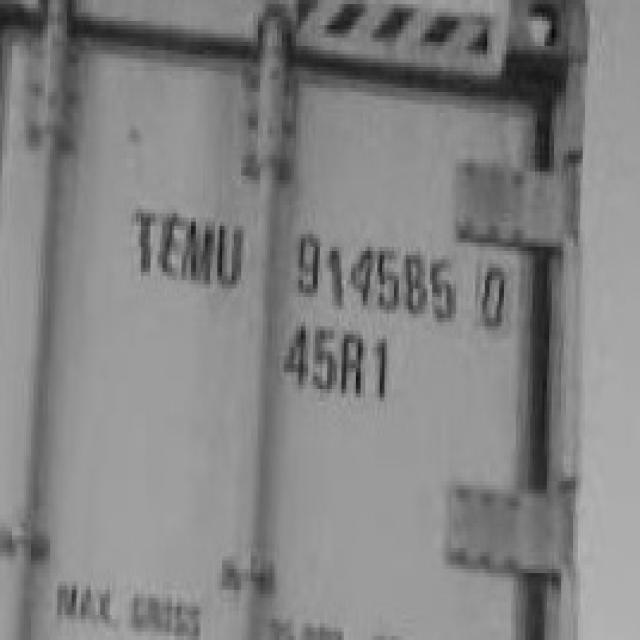dv: (475, 254, 511, 335)
owner: (125, 188, 252, 298)
serial: (291, 217, 464, 322)
size: (274, 315, 404, 422)
